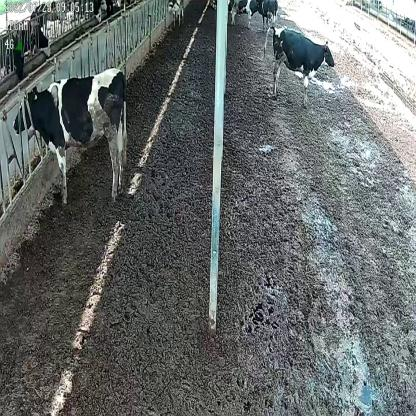cow: (13, 67, 128, 205), (264, 21, 336, 105), (230, 0, 258, 27), (257, 0, 278, 29), (167, 0, 184, 23)
